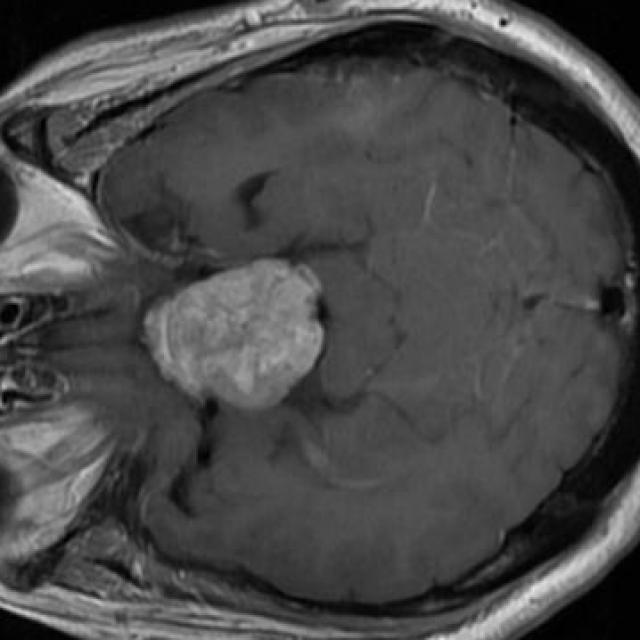pituitary: (146, 260, 323, 408)
